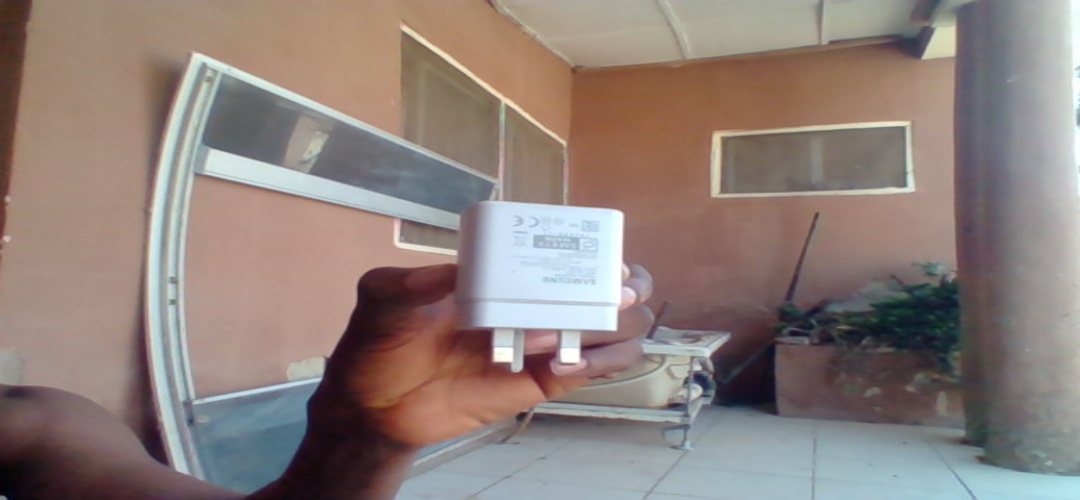phone_charger: (453, 200, 623, 373)
